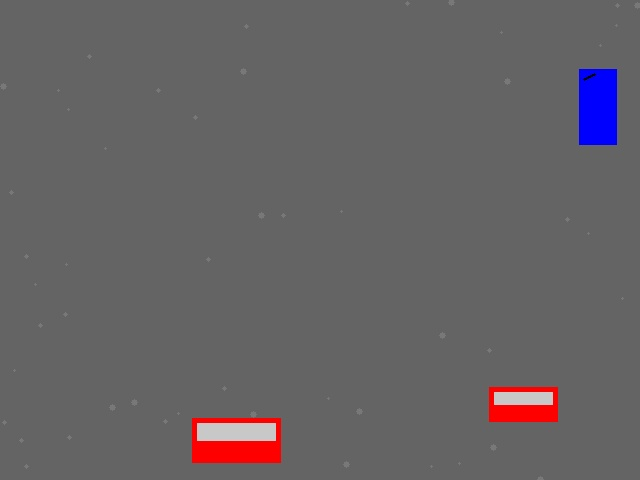car: (192, 418, 280, 462), (489, 387, 557, 421)
motorcycle: (579, 69, 616, 144)
